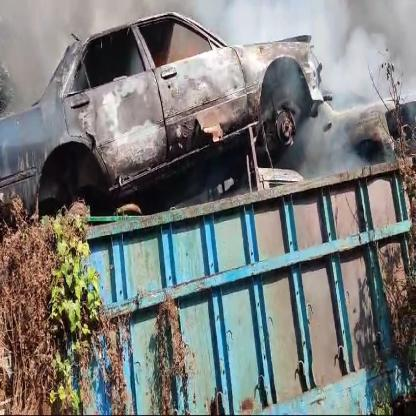Smoke: (0, 0, 416, 190)
